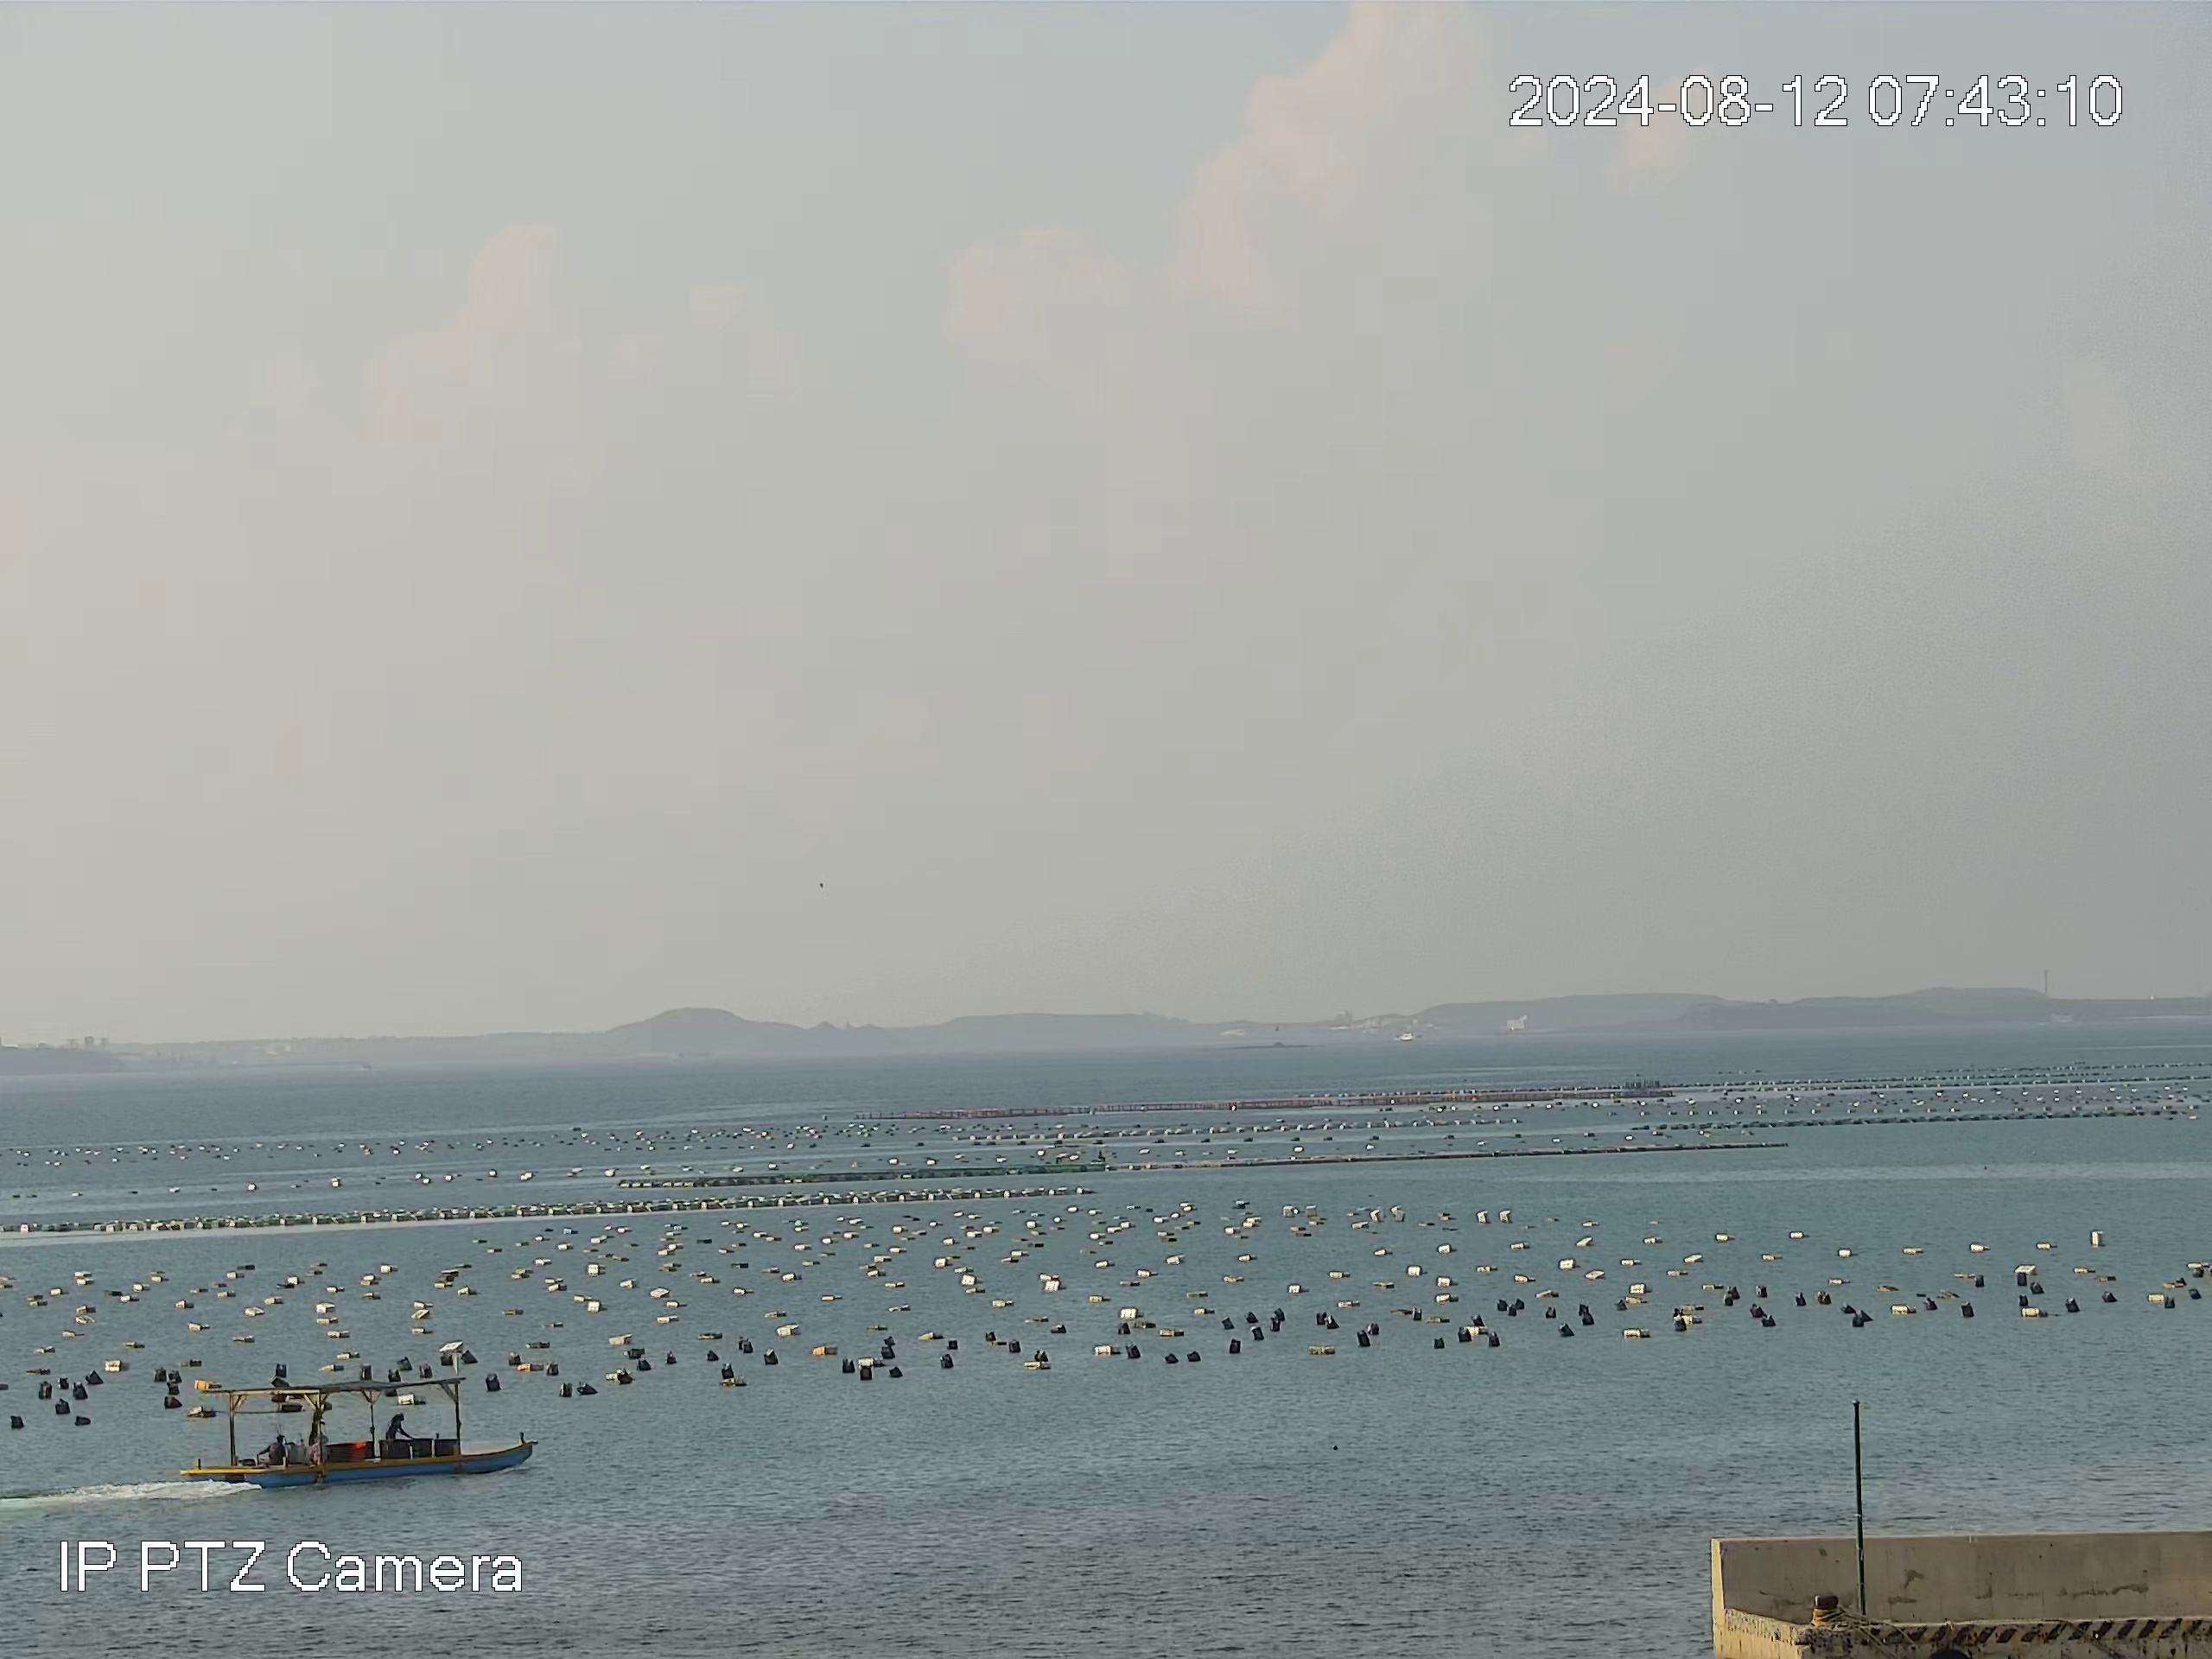boat: (171, 1368, 539, 1493)
